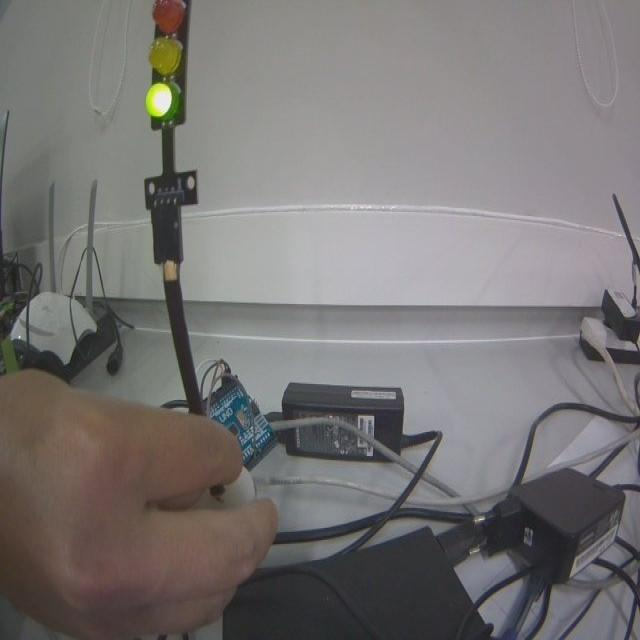Lampu Hijau: (148, 0, 191, 131)
